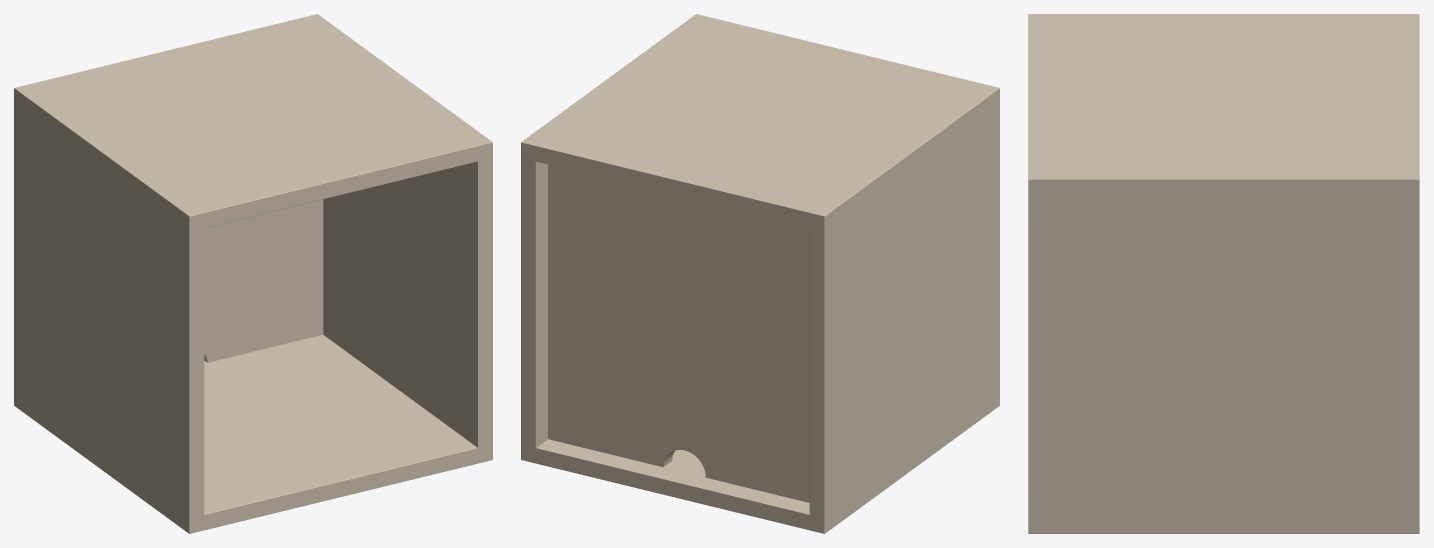
The model's file is MOD-1X1-A-B-AP-AR.glb.
3 renders of one model, left to right at view 1: azimuth 30°, elevation 25°; view 2: azimuth 150°, elevation 25°; view 3: azimuth 270°, elevation 25°, orthographic. The views are drawn at different scales.
Size of the model in its own units: 360 by 360 by 360.
